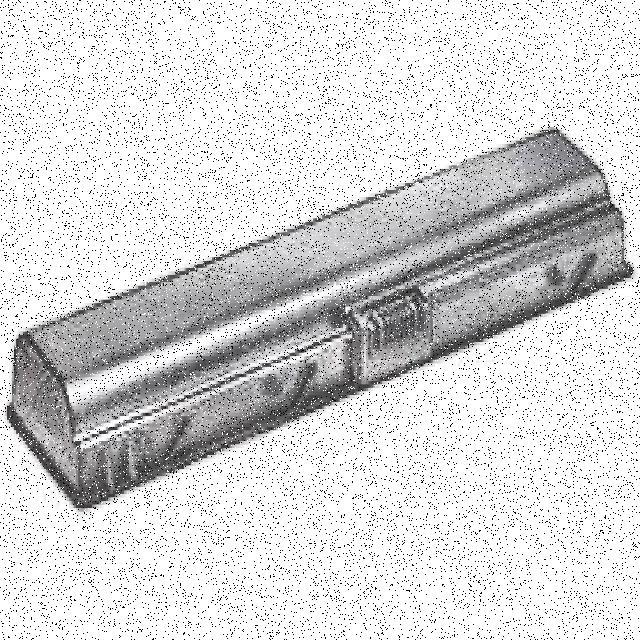B3: (0, 120, 640, 531)
